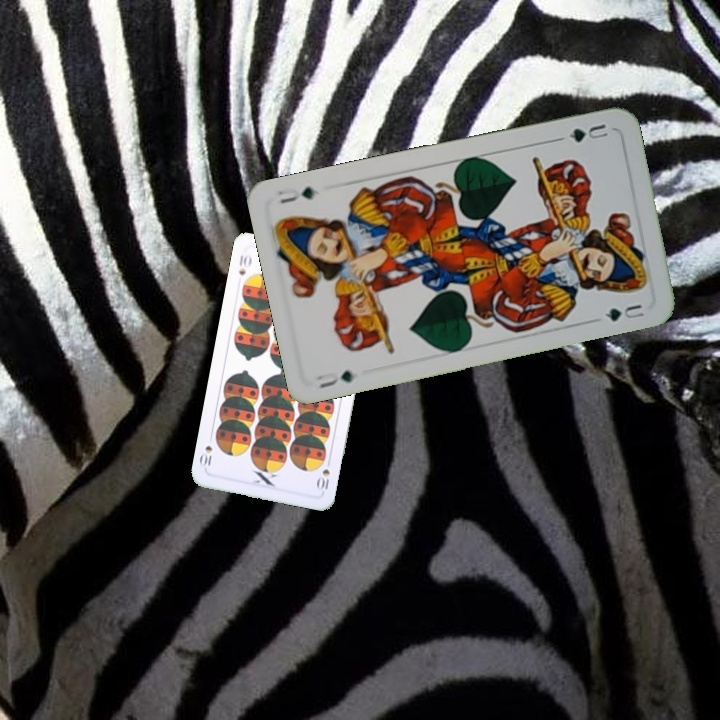GU: (565, 119, 611, 145), (313, 366, 356, 391)
S10: (313, 455, 333, 495), (234, 250, 254, 277)
